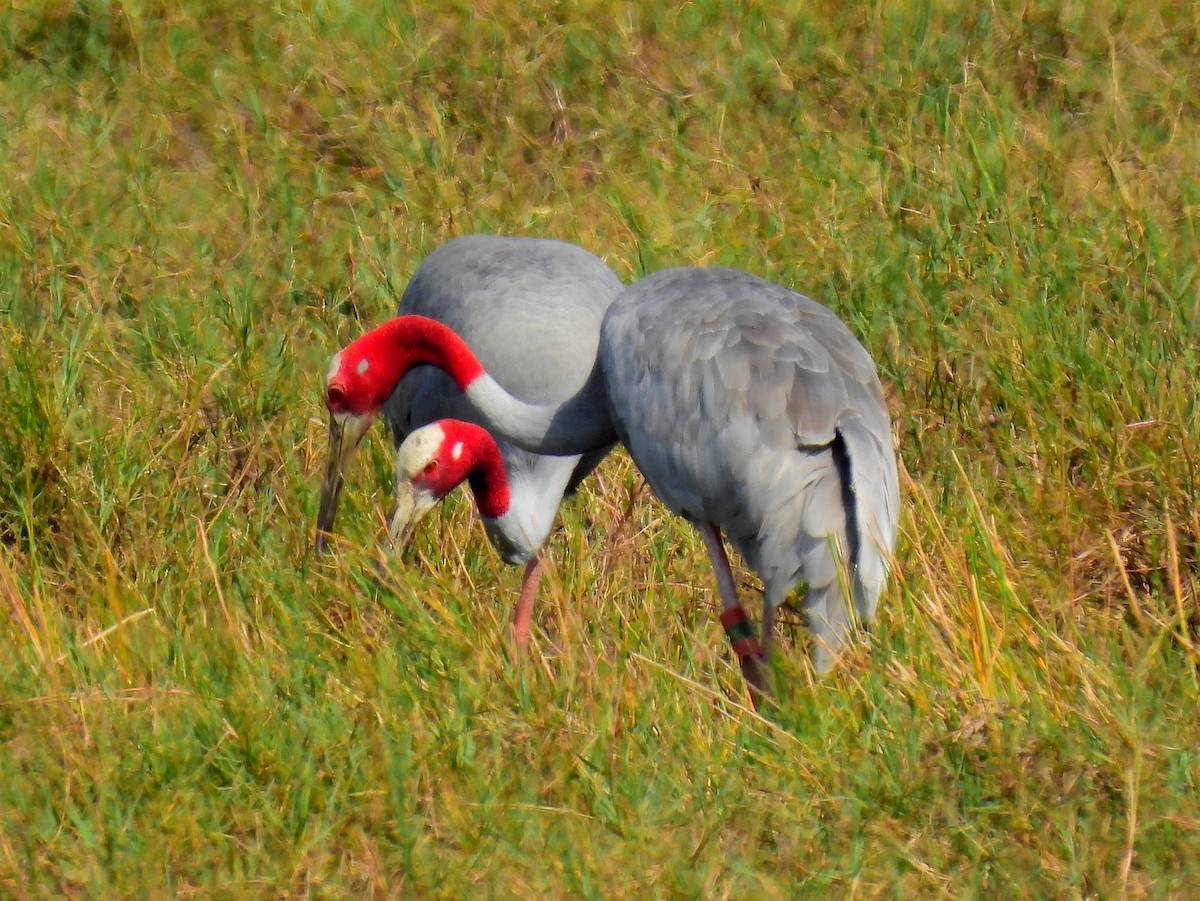crane: (315, 310, 918, 699), (379, 417, 561, 610)
